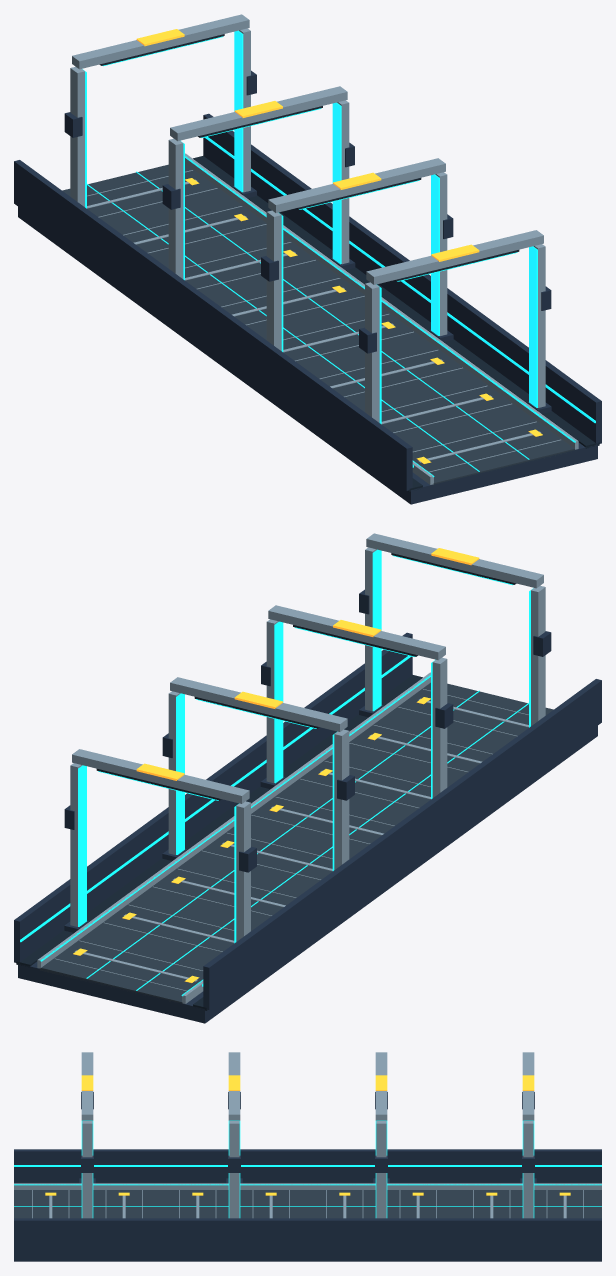
File: lab_segment.glb
3 views of the same model, one above another, from view 1: azimuth 30°, elevation 25°; view 2: azimuth 150°, elevation 25°; view 3: azimuth 270°, elevation 25° (orthographic). The views are drawn at different scales.
Parts seen in each view (by area): view 1: track recessed plate, wall base-1, wall base1, lab foundation, side rail1, lower steel trench1, portal lintel12, portal lintel4, portal lintel-4, portal lintel-12, portal pillar-14, portal pillar-1-4 (+14 smaller); view 2: track recessed plate, wall base-1, wall base1, lab foundation, side rail1, lower steel trench1, portal lintel-12, portal lintel4, portal lintel-4, portal lintel12, portal pillar-1-4, portal pillar-14 (+14 smaller); view 3: wall base1, wall base-1, track recessed plate, lab foundation, side rail-1, side illumination-1, wall electric insert-1, lower steel trench-1, portal pillar1-4, portal pillar1-12, portal pillar14, portal pillar112 (+9 smaller).
Part boxes in pixels (box(x1,y1,x2,y2)): track recessed plate: box(62, 163, 575, 485); wall base-1: box(14, 160, 412, 490); wall base1: box(203, 113, 601, 444); lab foundation: box(18, 206, 597, 504); side rail1: box(185, 153, 578, 449); lower steel trench1: box(193, 156, 599, 448); portal lintel12: box(72, 14, 249, 69); portal lintel4: box(170, 86, 347, 141); portal lintel-4: box(268, 158, 445, 212); portal lintel-12: box(366, 230, 543, 284); portal pillar-14: box(168, 138, 183, 278); portal pillar-1-4: box(266, 210, 281, 350); track recessed plate: box(39, 682, 553, 1003); wall base-1: box(203, 679, 601, 1009); wall base1: box(14, 632, 412, 963); lab foundation: box(18, 725, 597, 1023); side rail1: box(37, 672, 430, 968); lower steel trench1: box(16, 675, 422, 967); portal lintel-12: box(366, 533, 543, 588); portal lintel4: box(170, 677, 347, 731); portal lintel-4: box(268, 605, 445, 660); portal lintel12: box(72, 749, 249, 803); portal pillar-1-4: box(432, 657, 447, 797); portal pillar-14: box(334, 729, 349, 869); wall base1: box(14, 1218, 601, 1252); wall base-1: box(14, 1149, 601, 1181); track recessed plate: box(14, 1190, 601, 1218); lab foundation: box(14, 1252, 601, 1261); side rail-1: box(14, 1183, 601, 1189); side illumination-1: box(14, 1184, 601, 1185); wall electric insert-1: box(14, 1165, 601, 1166); lower steel trench-1: box(14, 1182, 601, 1183); portal pillar1-4: box(229, 1121, 239, 1218); portal pillar1-12: box(82, 1121, 92, 1218); portal pillar14: box(376, 1121, 386, 1218); portal pillar112: box(523, 1121, 533, 1218).
Bounding box in the file's own units: 9.18 × 8.7 × 32.
